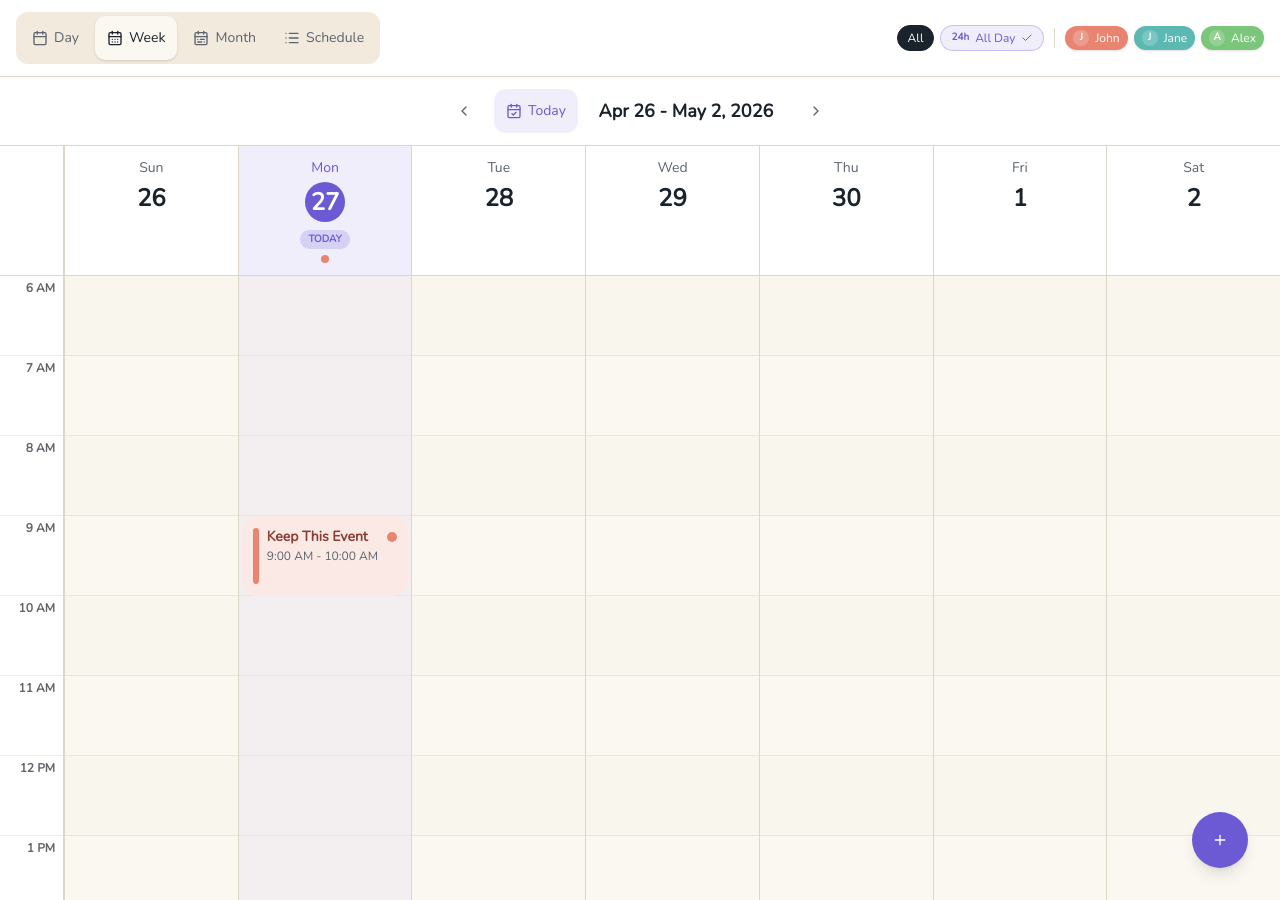
Test: CalendarModule › Delete Event Flow › cancels delete when cancel button clicked
Click the heading "Keep This Event".
click(323, 537)  # box 267,528 -> 379,546
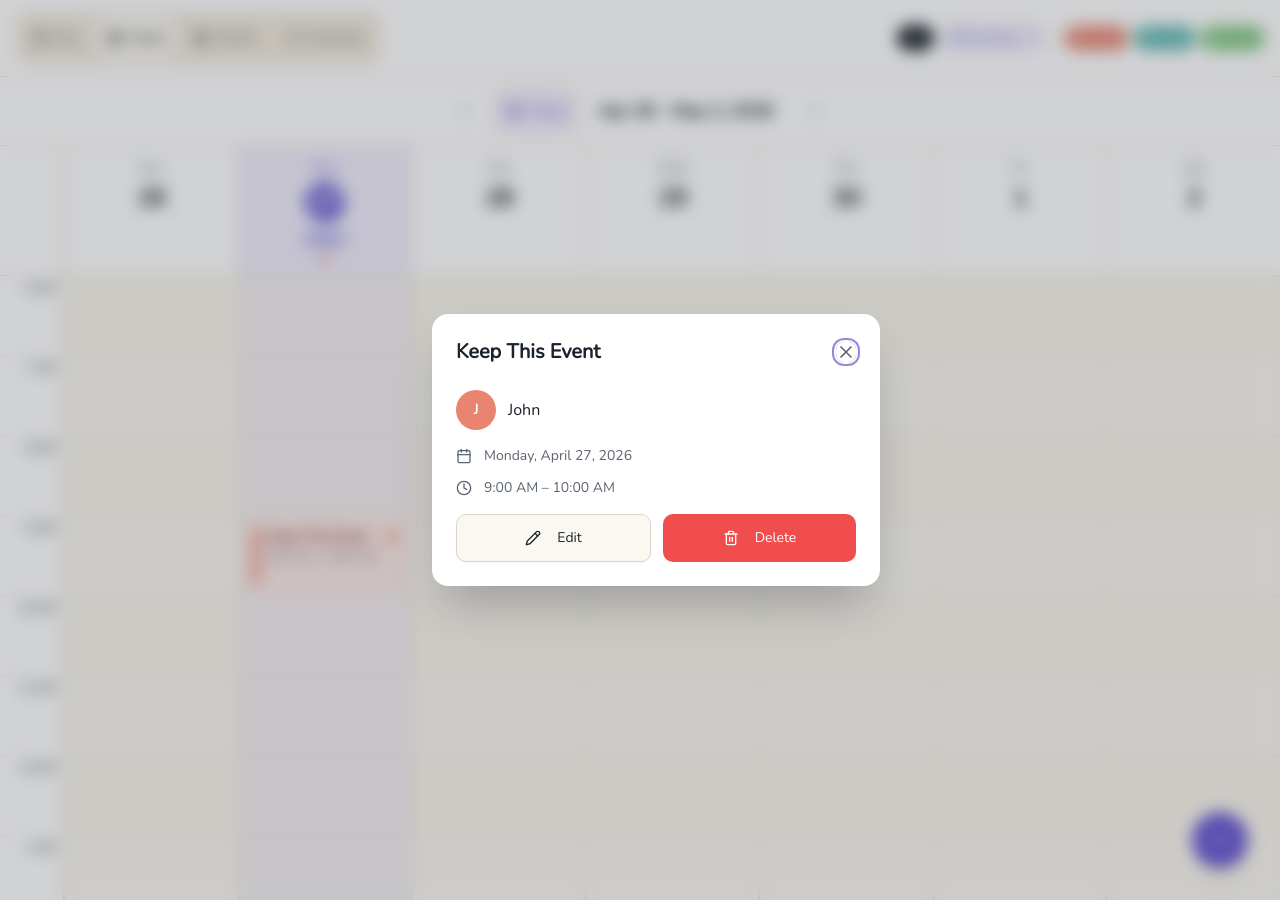
Expected: the dialog is shown, 432,314 -> 880,586
Note: Click delete then cancel
Click the button "Delete".
click(760, 538)  # box 663,514 -> 856,562
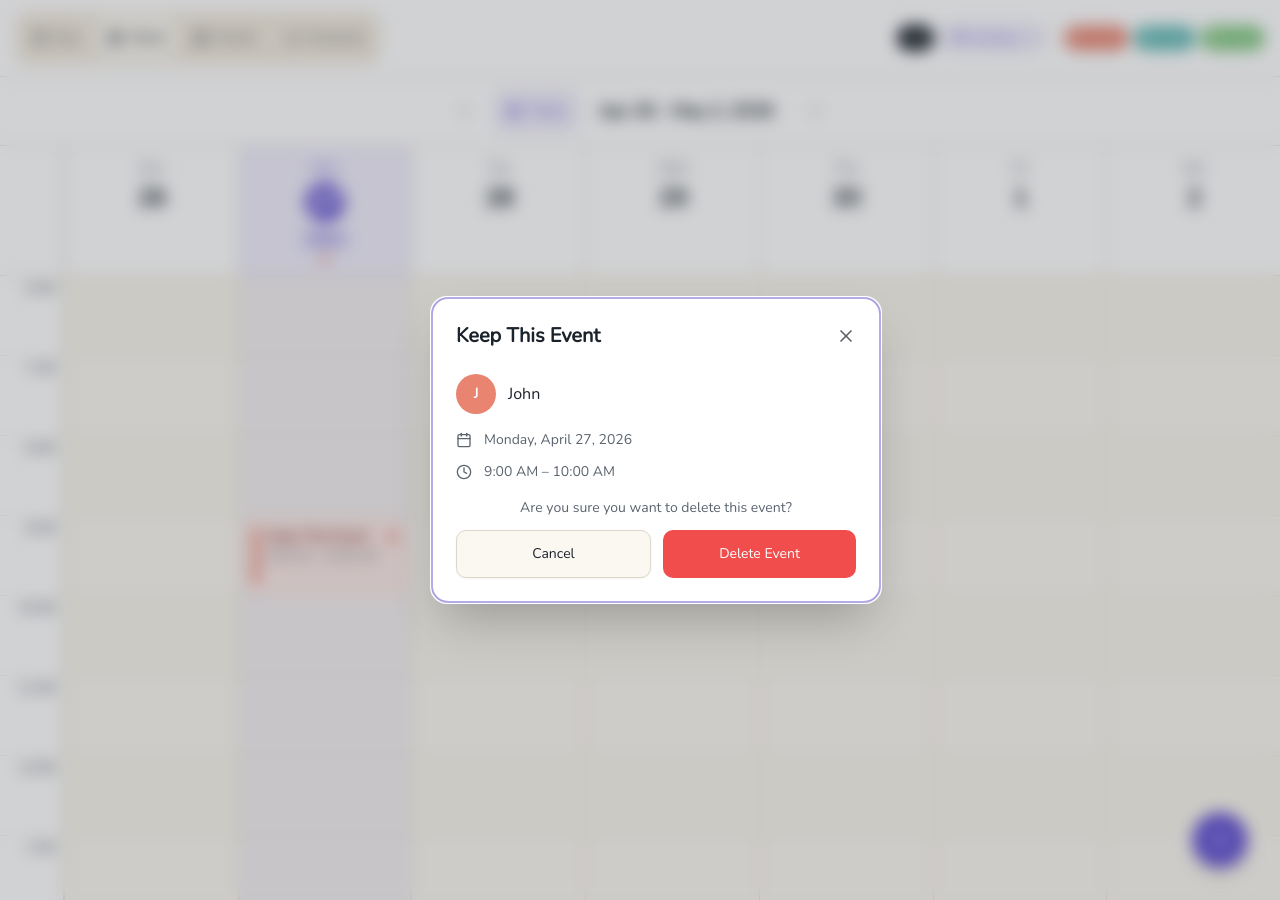
Click the button "Cancel".
click(554, 554)  # box 456,530 -> 651,578
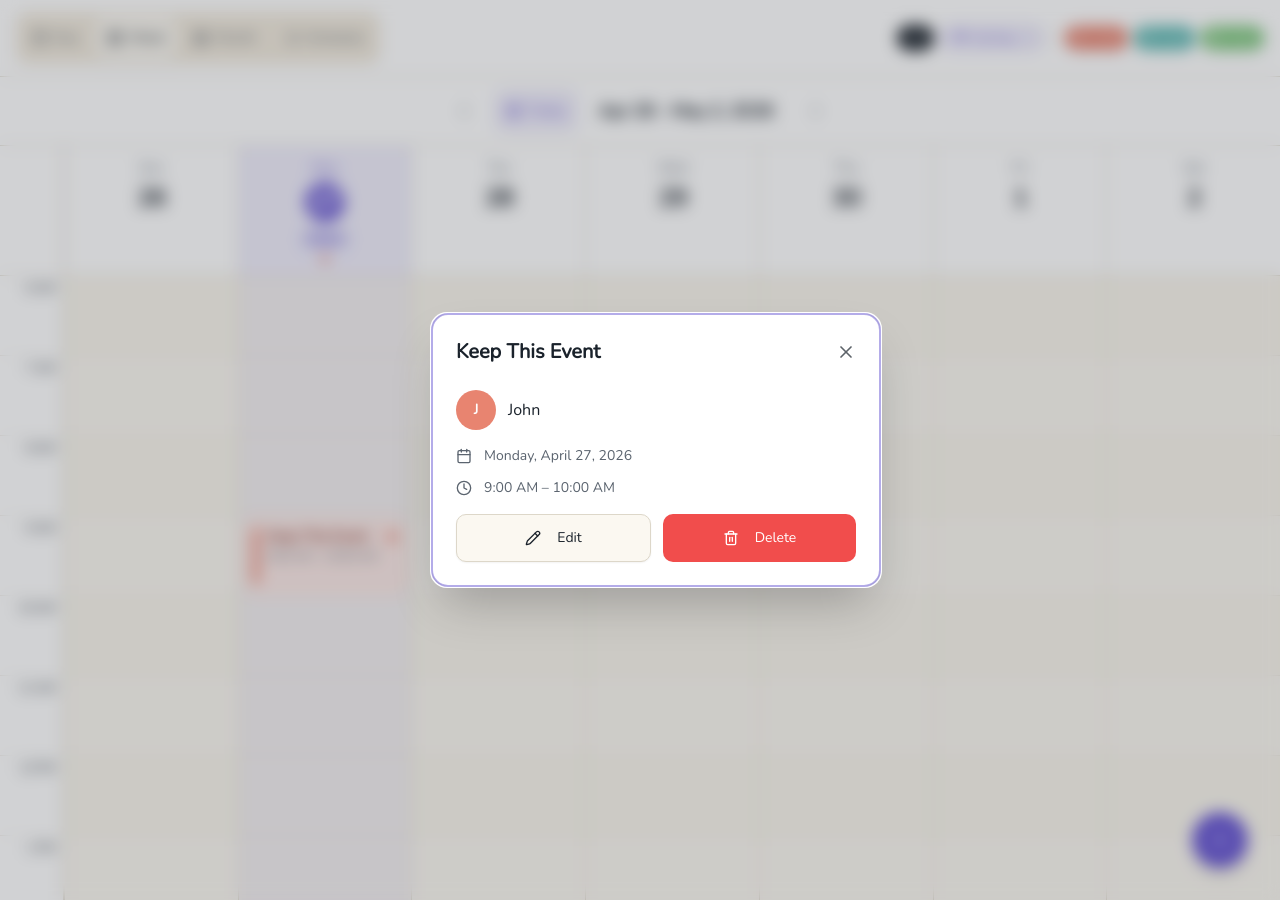
Expected: the button "Delete" is shown, 663,514 -> 856,562
Expected: the button "Edit" is shown, 456,514 -> 651,562
